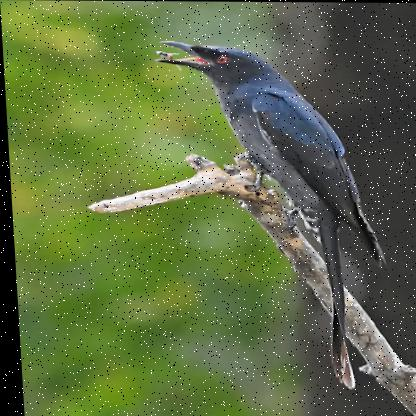Burung: (151, 39, 392, 391)
